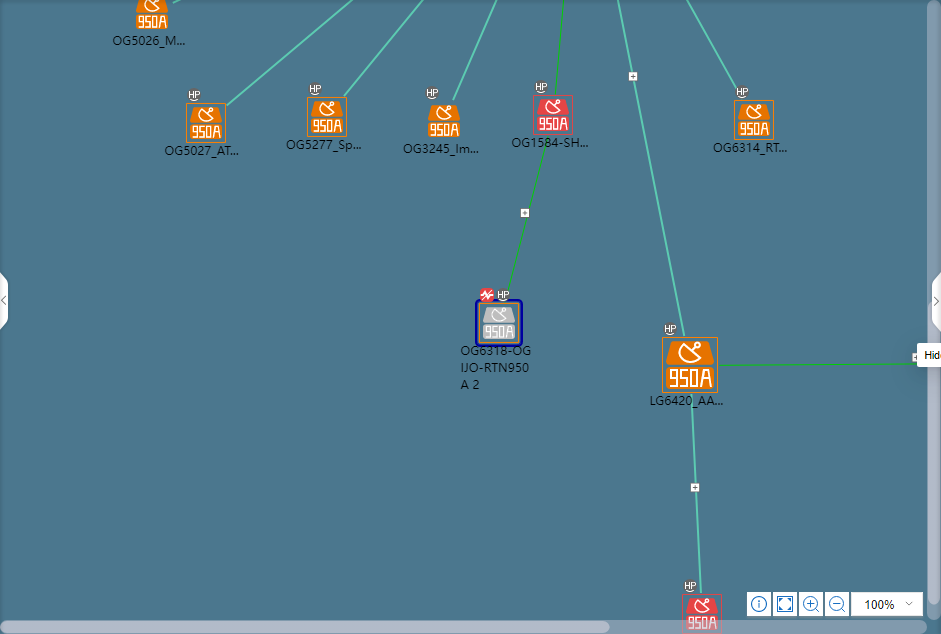Link_Blue: (616, 0, 687, 337), (226, 0, 355, 109), (342, 0, 425, 96), (684, 0, 744, 98), (450, 0, 498, 102), (689, 395, 703, 595)
Link_Green: (503, 138, 551, 298), (552, 1, 565, 95), (720, 361, 917, 367)
RTN_Gray: (481, 306, 516, 340)
RTN_Orange: (663, 338, 716, 390), (188, 104, 223, 139), (309, 100, 343, 135), (737, 103, 770, 136), (428, 105, 459, 137), (136, 0, 167, 28)
RTN_Red: (534, 97, 569, 132), (686, 598, 721, 633)
